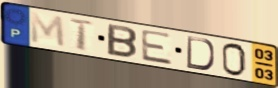0: (220, 42, 249, 78)
B: (105, 22, 139, 60)
D: (184, 35, 217, 72)
E: (139, 29, 175, 67)
M: (29, 11, 68, 50)
T: (67, 17, 97, 53)
